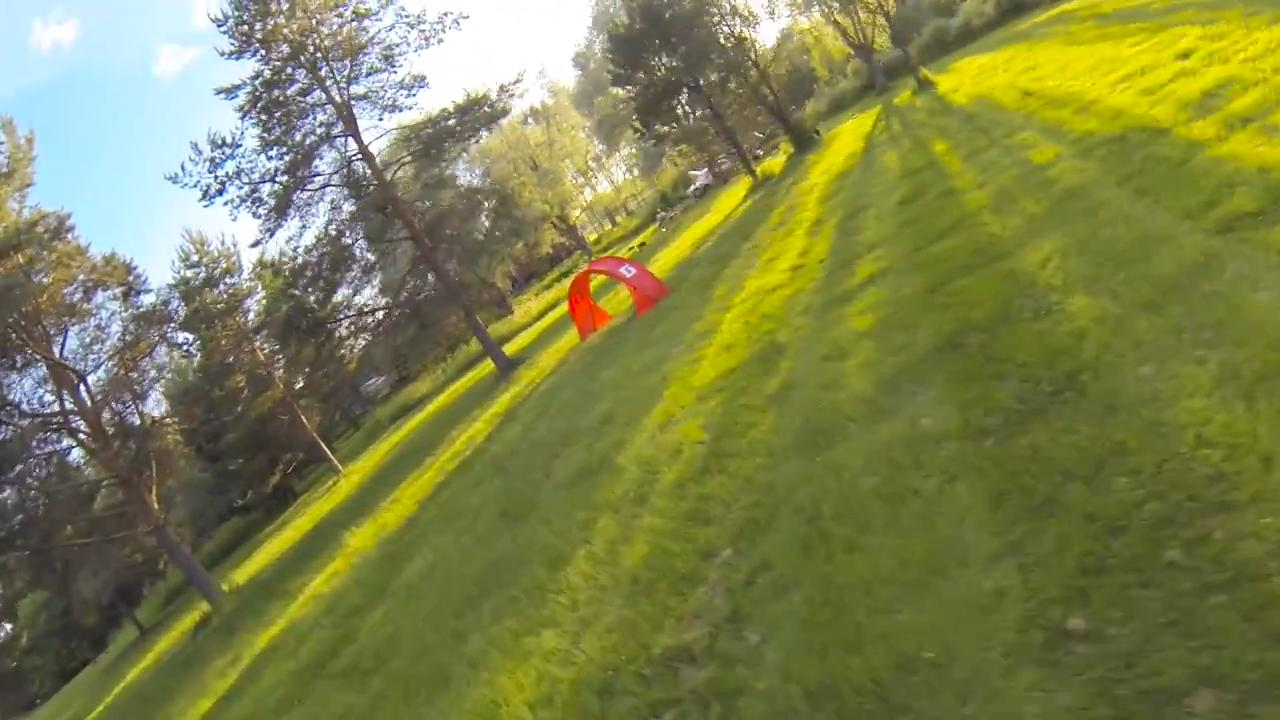gate: (564, 256, 669, 342)
